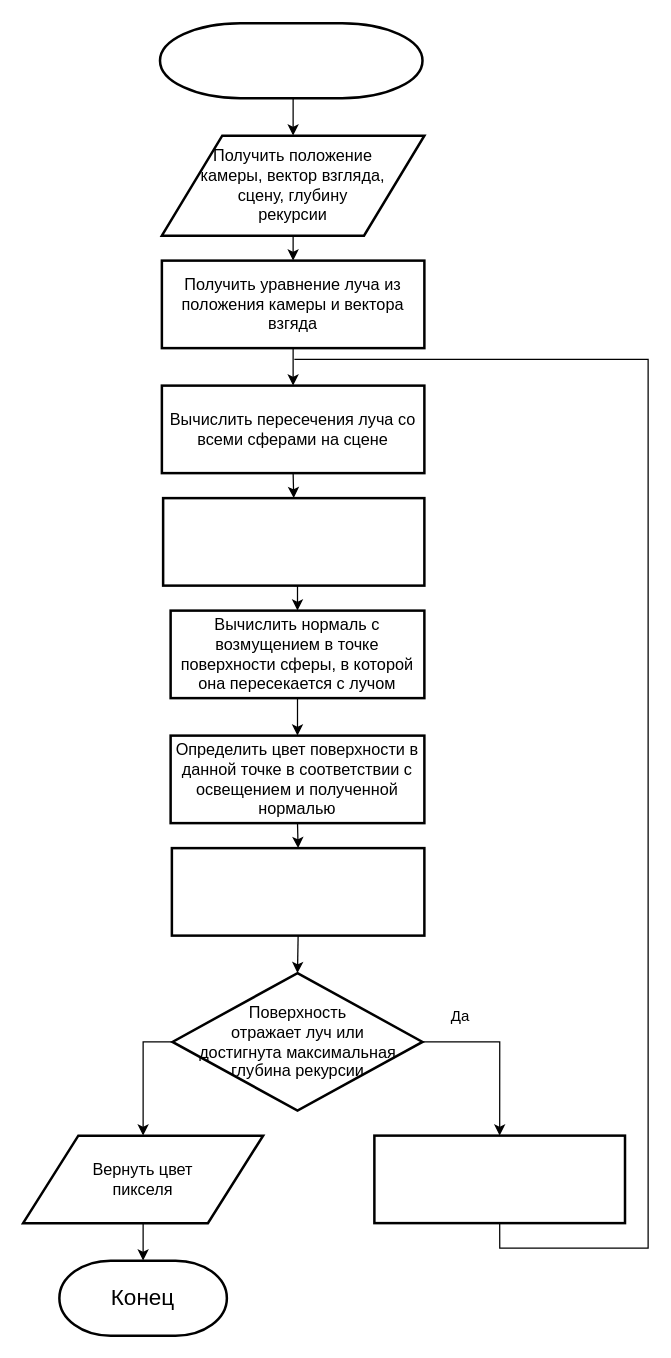
Image size: 671x1358. Some labels were removed from this diagram. Each missing label, with the centre of its shape:
"Выбрать ближайшую к камере сферу, которую пересекает луч" goes at pixel 293 541.
"Начало" goes at pixel 290 60.
"Определить отражаемость поверхности в данной точке" goes at pixel 297 891.
"Получить уравнение отраженного луча" goes at pixel 499 1179.
